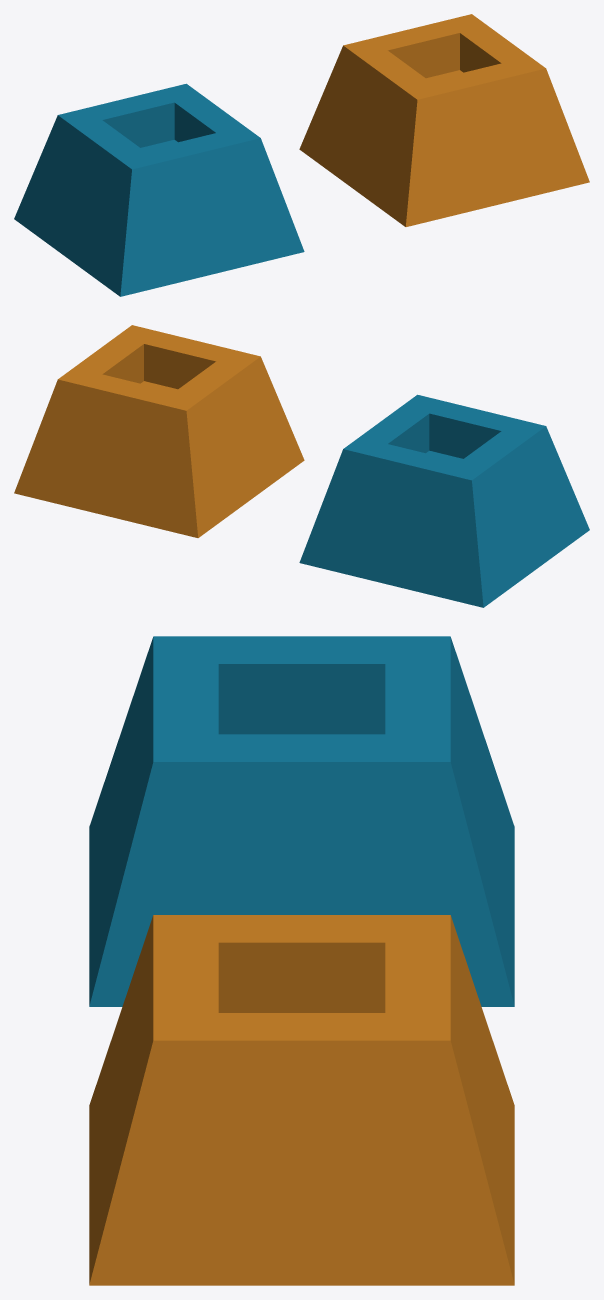
Rendered from Perreteeee_Comedero.fbx.
3 renders of one model, top to bottom at view 1: azimuth 30°, elevation 25°; view 2: azimuth 150°, elevation 25°; view 3: azimuth 270°, elevation 25°, orthographic. The views are drawn at different scales.
Visible parts, largest first — view 1: Cube.014, Cube.015; view 2: Cube.014, Cube.015; view 3: Cube.015, Cube.014.
Boxes of the visible parts, box(x1,y1,x2,y2) form: Cube.014: box(14, 83, 304, 296); Cube.015: box(299, 14, 589, 226); Cube.014: box(299, 394, 589, 607); Cube.015: box(14, 325, 304, 537); Cube.015: box(89, 915, 514, 1285); Cube.014: box(89, 636, 514, 1006).
Bounding box in the file's own units: 216 × 47.82 × 84.61.
